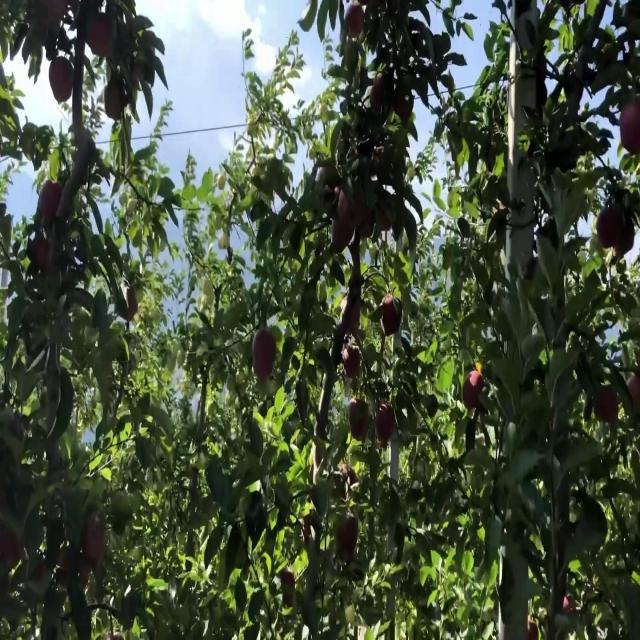apple: (48, 56, 75, 105), (88, 14, 115, 59), (252, 334, 277, 382), (348, 398, 371, 444), (600, 206, 623, 251), (84, 519, 106, 565), (40, 184, 64, 226), (620, 106, 640, 156), (336, 519, 360, 560), (464, 369, 485, 414), (596, 391, 620, 428), (376, 405, 396, 448), (340, 298, 361, 338), (332, 220, 355, 256), (356, 199, 375, 242), (616, 220, 636, 260), (104, 85, 126, 121), (40, 0, 69, 27), (0, 533, 23, 567), (384, 298, 403, 338), (516, 78, 537, 114), (32, 241, 53, 274), (348, 7, 367, 41), (396, 92, 415, 124), (344, 348, 361, 382), (340, 462, 357, 496), (372, 78, 386, 114), (124, 291, 139, 324), (628, 376, 640, 416), (336, 191, 352, 219)
